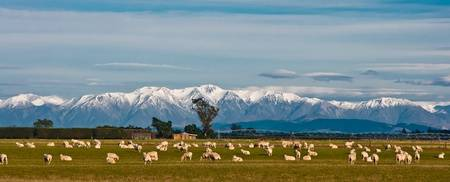sheep: (392, 151, 409, 164), (57, 152, 74, 163), (41, 152, 53, 166), (179, 150, 193, 162), (154, 141, 169, 152), (142, 152, 153, 166), (208, 150, 222, 161), (1, 151, 11, 166), (104, 155, 117, 166), (282, 153, 296, 163), (327, 143, 341, 152), (239, 147, 251, 157), (264, 145, 274, 157), (348, 153, 358, 165), (359, 150, 371, 160), (412, 150, 422, 162), (371, 152, 380, 165), (13, 139, 24, 149), (26, 140, 36, 151), (436, 151, 446, 162), (44, 140, 56, 149), (92, 141, 104, 150), (232, 155, 244, 164), (391, 141, 401, 151), (62, 140, 73, 149), (343, 140, 354, 149), (293, 150, 302, 160), (133, 143, 142, 153), (301, 155, 311, 162)
